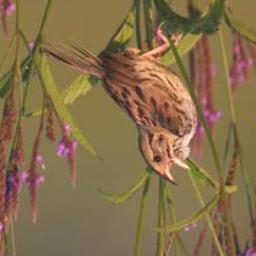Sparrow: (33, 17, 198, 188)
